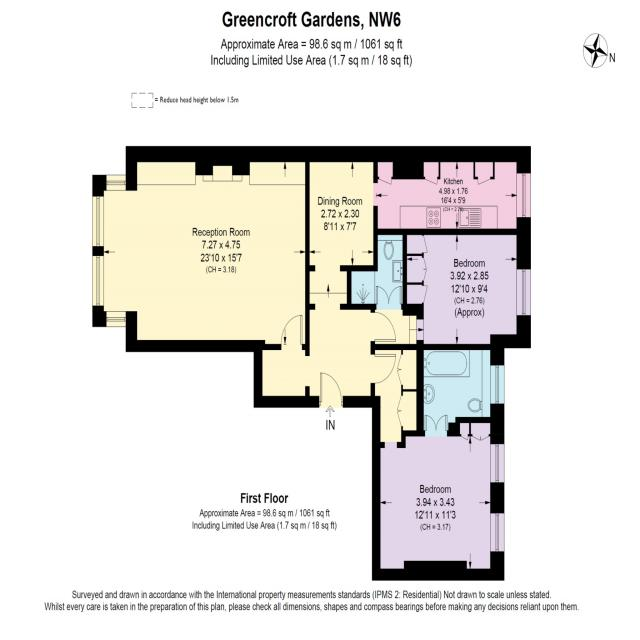DOOR: (370, 309, 398, 344), (319, 370, 344, 408), (279, 313, 304, 351), (370, 352, 397, 387)
ROOM: (92, 145, 310, 353), (345, 217, 531, 366), (371, 402, 504, 580), (372, 146, 531, 236)
WINDOW: (488, 361, 508, 408), (515, 171, 533, 219), (515, 267, 532, 317), (489, 510, 507, 554), (489, 440, 506, 485), (91, 194, 105, 248), (91, 254, 105, 308), (105, 309, 127, 330), (105, 173, 127, 193)
